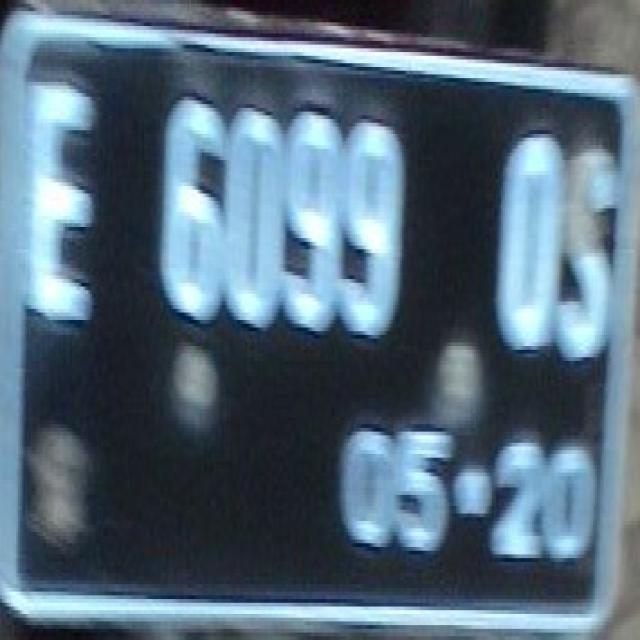plate: (0, 8, 626, 636)
